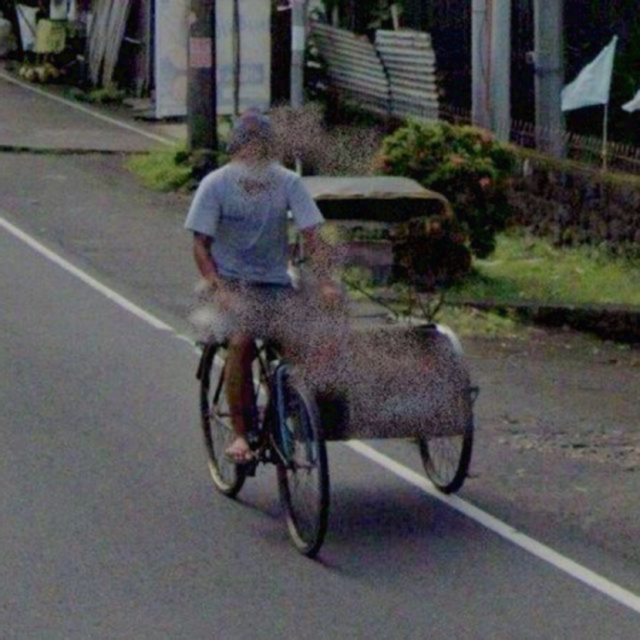bicycle: (158, 165, 500, 590)
